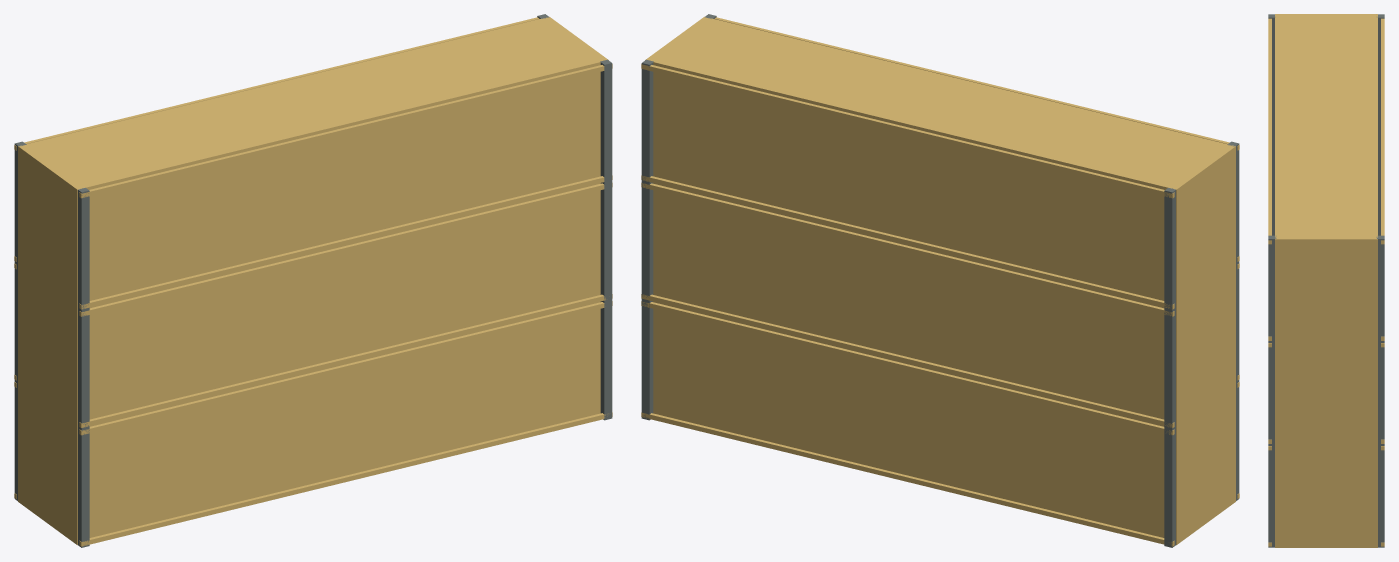
3 views of the same model, side by side, from view 1: azimuth 30°, elevation 25°; view 2: azimuth 150°, elevation 25°; view 3: azimuth 270°, elevation 25° (orthographic). The views are drawn at different scales.
Size of the model in its own units: 12.2 by 7.8 by 2.66.
